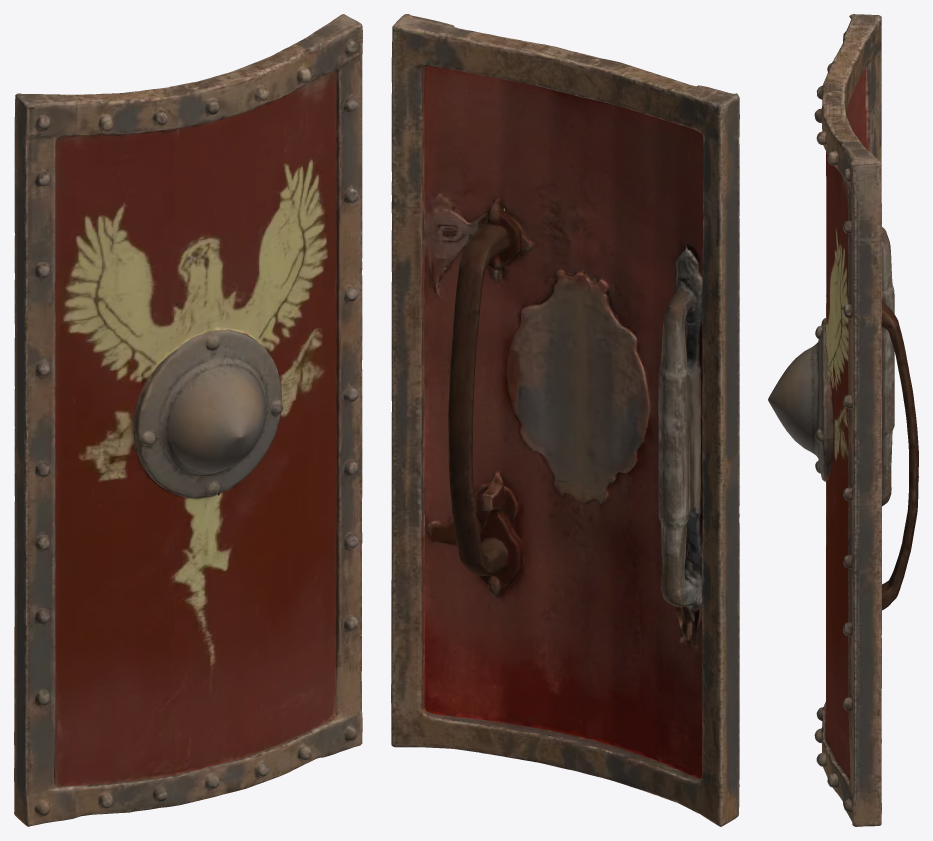
The model's file is legionary-scutum.glb.
3 renders of one model, left to right at view 1: azimuth 30°, elevation 25°; view 2: azimuth 150°, elevation 25°; view 3: azimuth 270°, elevation 25°, orthographic. The views are drawn at different scales.
Visible parts, largest first — view 1: world; view 2: world; view 3: world.
Boxes of the visible parts, left/top/right/bottom form: world: left=14, top=14, right=362, bottom=826; world: left=391, top=14, right=739, bottom=826; world: left=768, top=14, right=918, bottom=826.
Size of the model in its own units: 0.4891 by 1 by 0.2061.
1 material, 1 textured.
